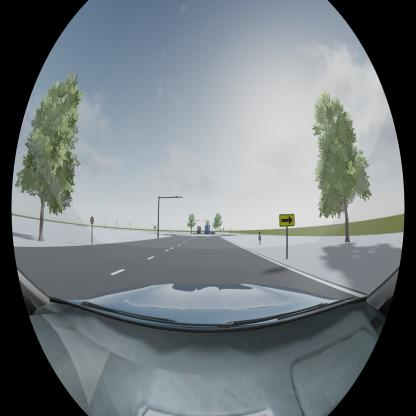Speed Limit 30: (90, 217, 94, 223)
